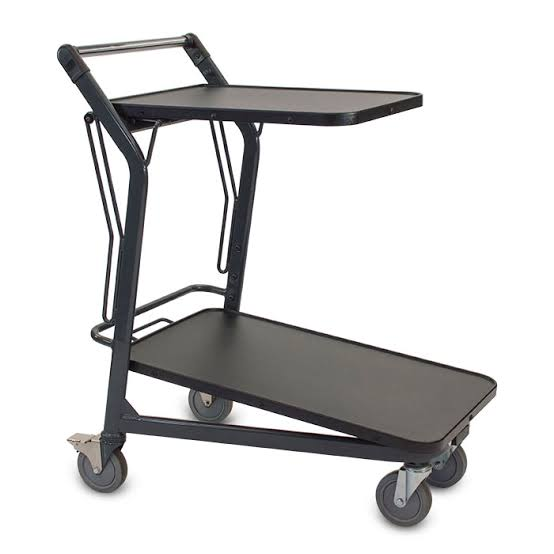Carts: (50, 31, 504, 531)
